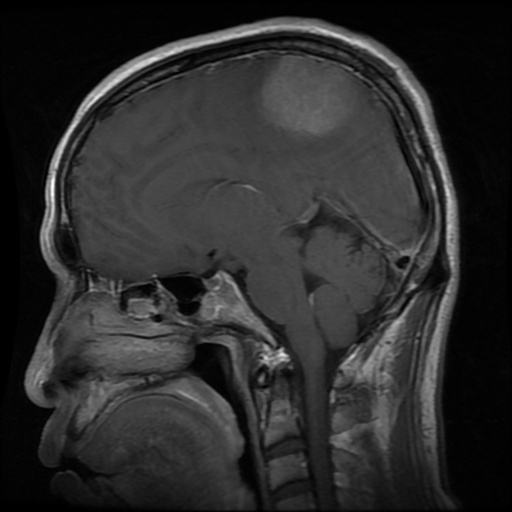meningioma: (259, 56, 361, 135)
